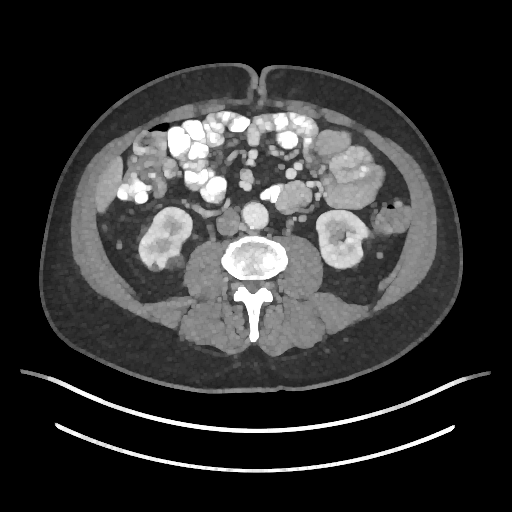Lesion: (163, 252, 191, 275)
